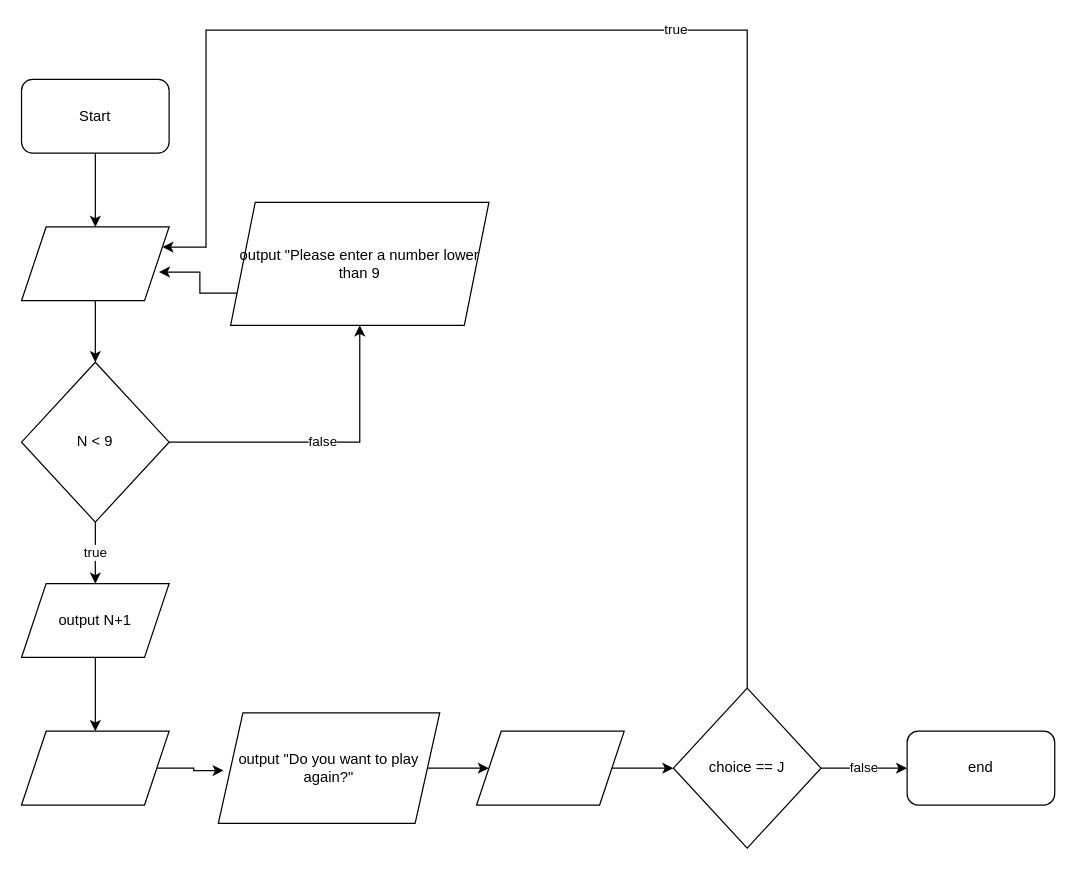
Image size: 1076x870. Some labels were removed from this diagram. Here are the shapes that lost their labels. From the top down, the centre of each, then its label:
(x=94, y=263): input N
(x=94, y=767): output "I WIN"
(x=549, y=767): input choice
